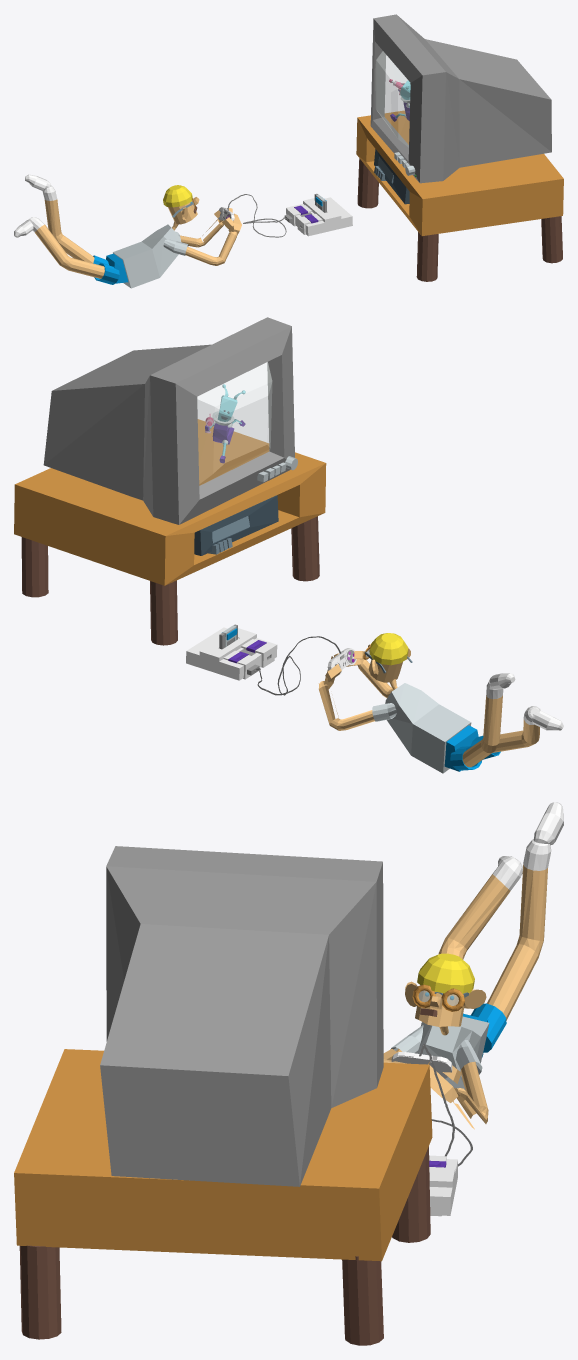
The model's file is scene_UsdmCnqx4y.glb.
3 views of the same model, one above another, from view 1: azimuth 30°, elevation 25°; view 2: azimuth 150°, elevation 25°; view 3: azimuth 270°, elevation 25° (orthographic). The views are drawn at different scales.
Parts seen in each view (by area): view 1: Node; view 2: Node; view 3: Node.
Part boxes in pixels (left/top/right/bottom): Node: left=14, top=14, right=563, bottom=288; Node: left=14, top=317, right=563, bottom=773; Node: left=14, top=802, right=563, bottom=1345.
Size of the model in its own units: 8.82 by 4.19 by 4.79.
